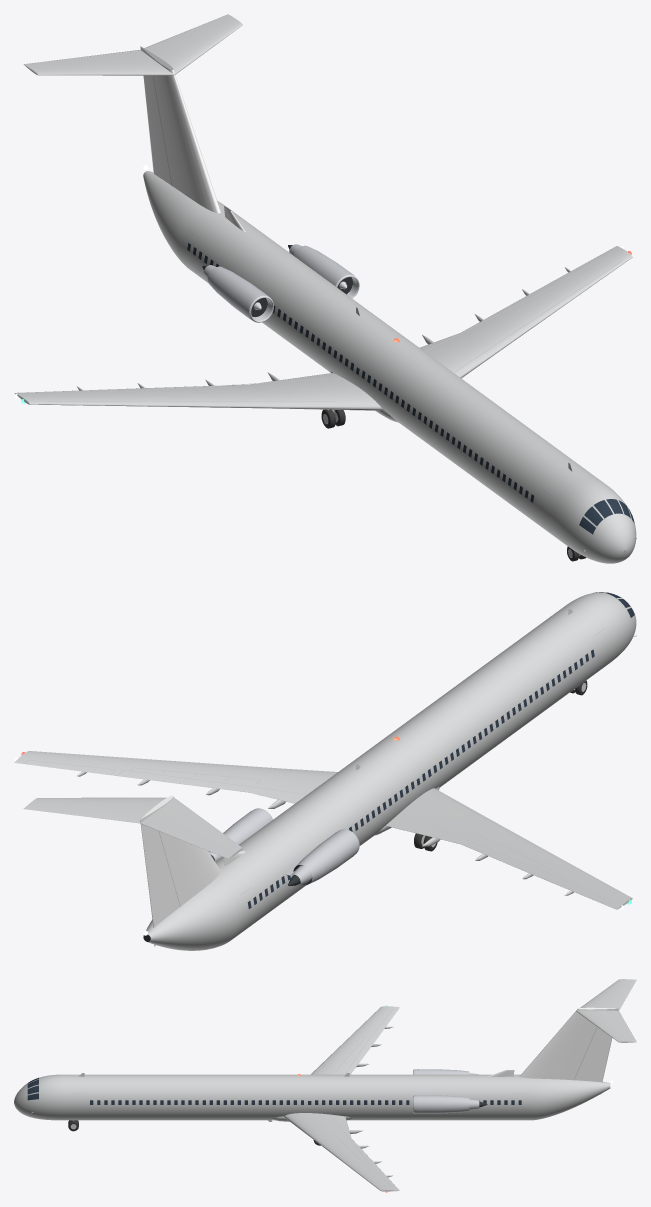
3 views of the same model, one above another, from view 1: azimuth 30°, elevation 25°; view 2: azimuth 150°, elevation 25°; view 3: azimuth 270°, elevation 25° (orthographic). The views are drawn at different scales.
Visible parts, largest first — view 1: airframe; view 2: airframe; view 3: airframe.
Part boxes in pixels (left/top/right/bottom): airframe: left=14, top=14, right=636, bottom=563; airframe: left=14, top=592, right=636, bottom=950; airframe: left=14, top=979, right=636, bottom=1192.
Size of the model in its own units: 33.17 by 10.06 by 47.02.
